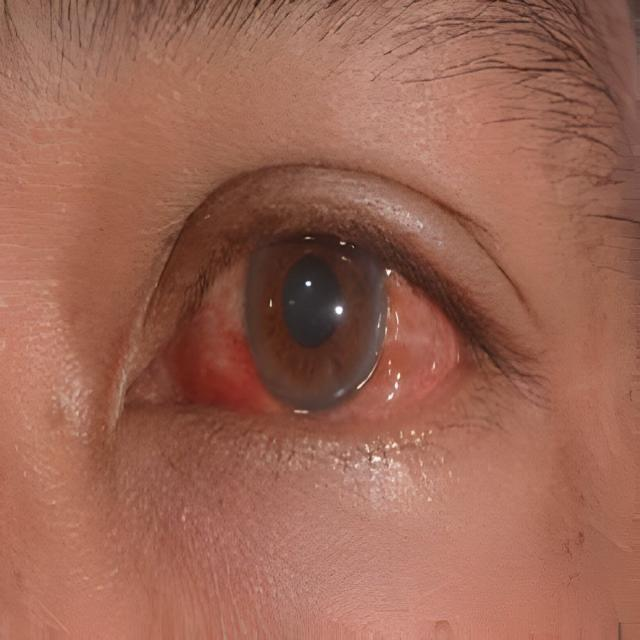Conjunctivitis: (120, 219, 510, 443)
